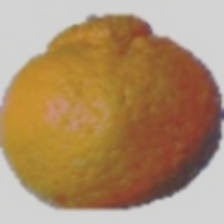tangerine: (37, 28, 197, 164)
